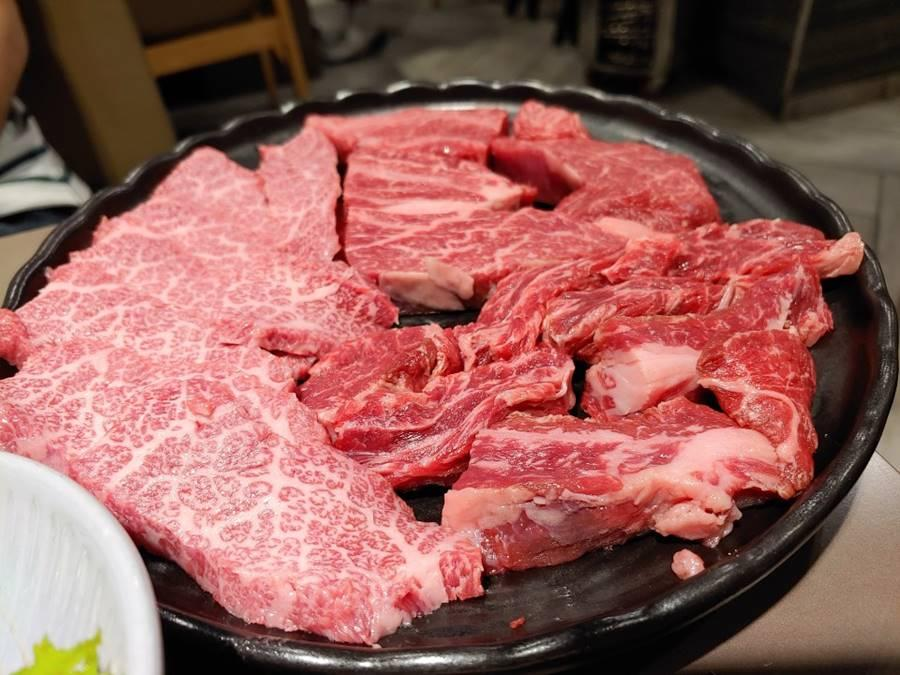beef: (118, 177, 444, 585), (499, 285, 900, 560), (481, 121, 882, 275)
